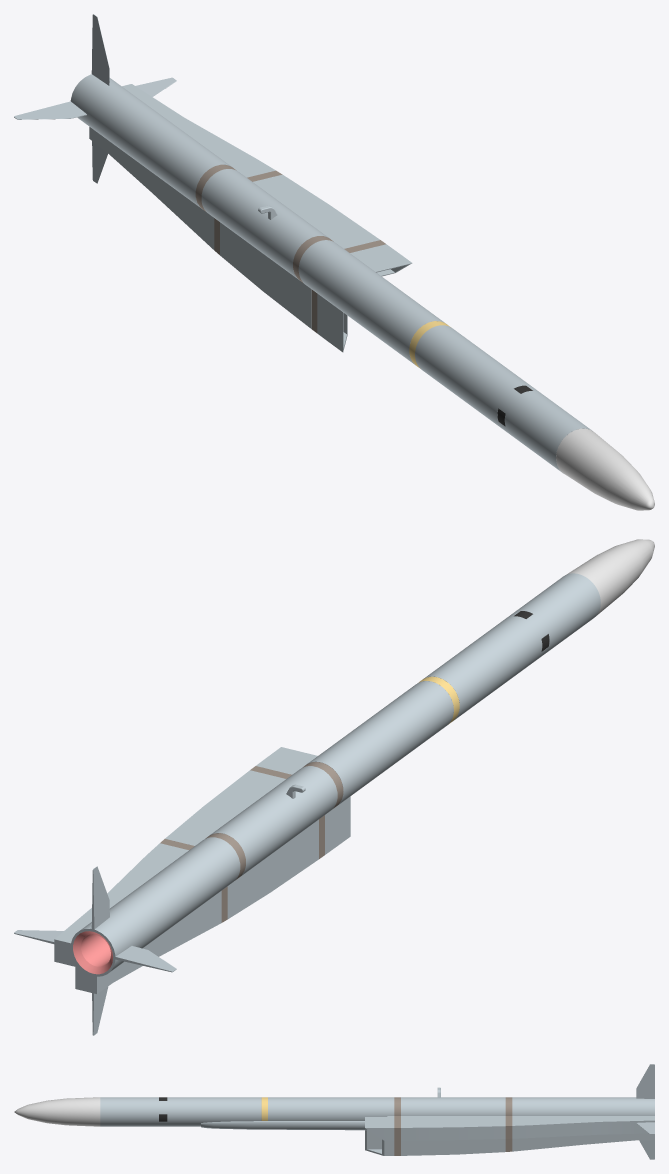
File: meteorhigh.fbx
3 views of the same model, one above another, from view 1: azimuth 30°, elevation 25°; view 2: azimuth 150°, elevation 25°; view 3: azimuth 270°, elevation 25° (orthographic). The views are drawn at different scales.
Visible parts, largest first — view 1: Body18.002; view 2: Body18.002; view 3: Body18.002.
Part boxes in pixels (x1,y1,x2,y2): Body18.002: [14, 14, 654, 510]; Body18.002: [14, 539, 654, 1035]; Body18.002: [14, 1064, 654, 1159].
Bounding box in the file's own units: 63.25 × 63.25 × 386.
